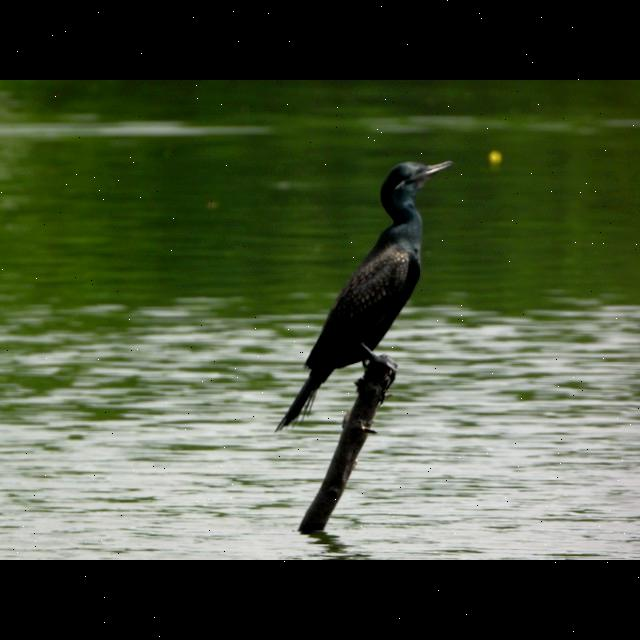cormorant: (266, 143, 456, 437)
